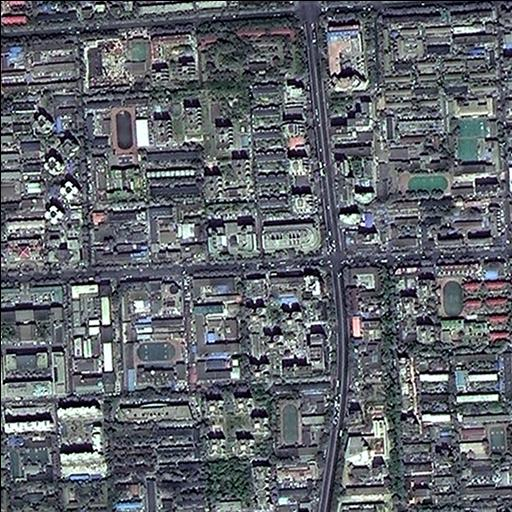school: (387, 138, 505, 199), (106, 97, 147, 201), (271, 391, 335, 456), (124, 333, 190, 392), (458, 422, 512, 464), (439, 273, 471, 342)
